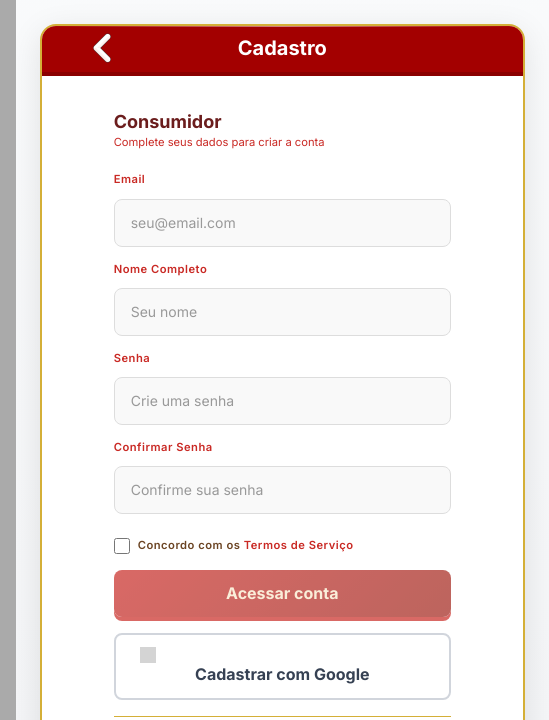
Test: SignupConsumer Component Tests › deve desabilitar o botão de envio se os termos de serviço não forem aceitos
Expected: the button "Acessar conta" is disabled, [114,570,451,617]
Click the checkbox: (122, 546) [114,538,130,554]
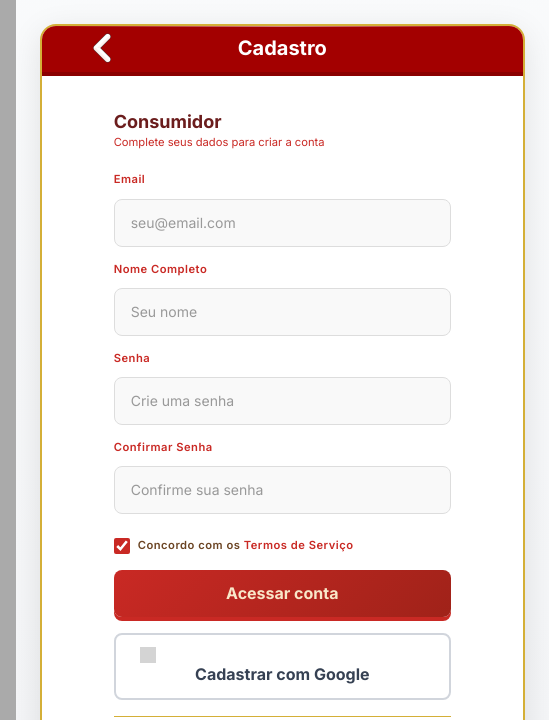
Expected: the checkbox is checked, [114,538,130,554]
Expected: the button "Acessar conta" is enabled, [114,570,451,617]
